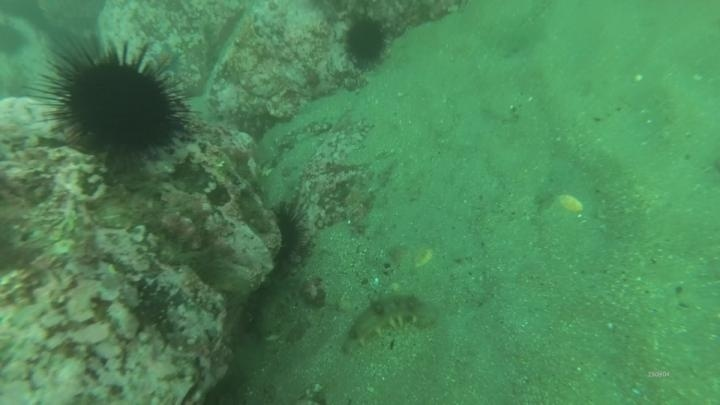echinus: (36, 35, 193, 172), (268, 200, 312, 270), (340, 13, 392, 70)
holothurian: (340, 288, 438, 353), (250, 272, 307, 342)
starfish: (149, 41, 184, 77)
